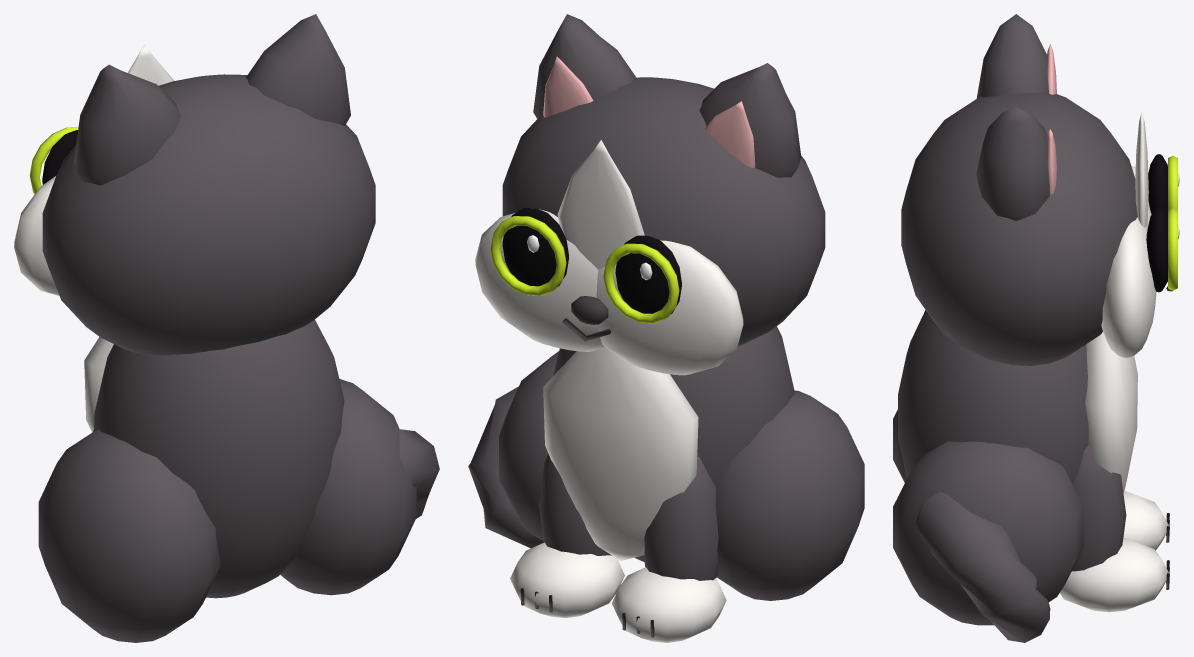
Rendered from ChibiCat.glb.
3 renders of one model, left to right at view 1: azimuth 30°, elevation 25°; view 2: azimuth 150°, elevation 25°; view 3: azimuth 270°, elevation 25°, orthographic. The views are drawn at different scales.
Parts seen in each view (by area): view 1: Head, Body, LeftHaunch, RightHaunch, LeftOuterEar, RightOuterEar, LeftMuzzle, Tail, Chest, ForeheadBlaze, LeftEye, LeftEyeRing; view 2: Head, LeftHaunch, Chest, LeftMuzzle, Body, RightMuzzle, ForeheadBlaze, LeftFrontLeg, LeftFrontPaw, RightFrontPaw, RightHaunch, LeftOuterEar (+10 smaller); view 3: Head, RightHaunch, Body, Tail, RightOuterEar, Chest, RightMuzzle, RightFrontPaw, RightFrontLeg, LeftOuterEar, LeftFrontPaw, RightEye (+6 smaller).
Part boxes in pixels (x1=…): Head: x1=42, y1=74, x2=375, y2=355; Body: x1=94, y1=319, x2=344, y2=598; LeftHaunch: x1=38, y1=429, x2=220, y2=642; RightHaunch: x1=280, y1=379, x2=416, y2=595; LeftOuterEar: x1=74, y1=64, x2=180, y2=185; RightOuterEar: x1=246, y1=14, x2=350, y2=125; LeftMuzzle: x1=14, y1=176, x2=59, y2=295; Tail: x1=398, y1=429, x2=439, y2=518; Chest: x1=84, y1=337, x2=113, y2=432; ForeheadBlaze: x1=128, y1=44, x2=173, y2=85; LeftEye: x1=42, y1=130, x2=77, y2=184; LeftEyeRing: x1=29, y1=127, x2=78, y2=194; Head: x1=502, y1=77, x2=825, y2=346; LeftHaunch: x1=715, y1=390, x2=864, y2=600; Chest: x1=543, y1=347, x2=698, y2=560; LeftMuzzle: x1=596, y1=240, x2=743, y2=375; Body: x1=553, y1=326, x2=794, y2=562; RightMuzzle: x1=475, y1=209, x2=605, y2=351; ForeheadBlaze: x1=557, y1=140, x2=644, y2=269; LeftFrontLeg: x1=643, y1=457, x2=718, y2=580; LeftFrontPaw: x1=612, y1=567, x2=726, y2=642; RightFrontPaw: x1=510, y1=542, x2=624, y2=618; RightHaunch: x1=499, y1=351, x2=558, y2=540; LeftOuterEar: x1=699, y1=63, x2=801, y2=177; Head: x1=901, y1=92, x2=1137, y2=365; RightHaunch: x1=893, y1=441, x2=1083, y2=625; Body: x1=898, y1=310, x2=1088, y2=484; Tail: x1=915, y1=492, x2=1050, y2=642; RightOuterEar: x1=976, y1=107, x2=1050, y2=221; Chest: x1=1085, y1=332, x2=1137, y2=492; RightMuzzle: x1=1101, y1=217, x2=1156, y2=358; RightFrontPaw: x1=1059, y1=538, x2=1168, y2=612; RightFrontLeg: x1=1071, y1=445, x2=1126, y2=571; LeftOuterEar: x1=976, y1=14, x2=1048, y2=98; LeftFrontPaw: x1=1123, y1=491, x2=1168, y2=550; RightEye: x1=1146, y1=206, x2=1167, y2=292.
Bounding box in the file's own units: 2.59 × 3.71 × 1.85.
